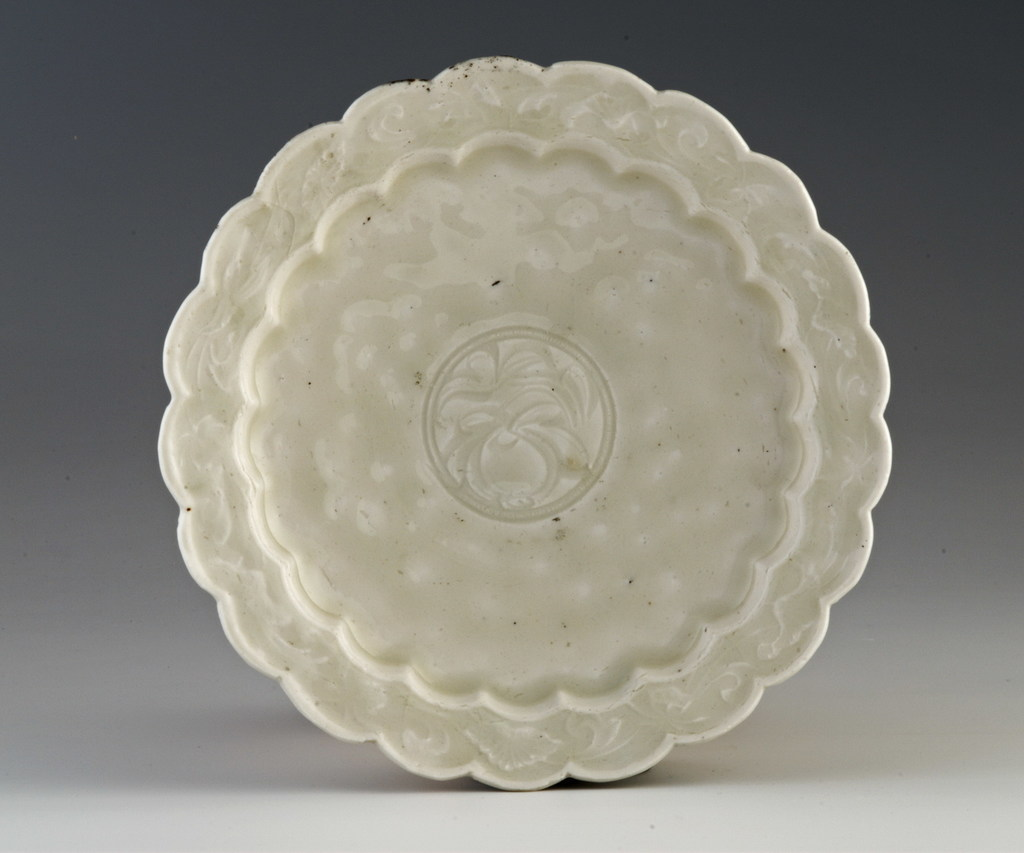plate: (158, 56, 894, 791)
